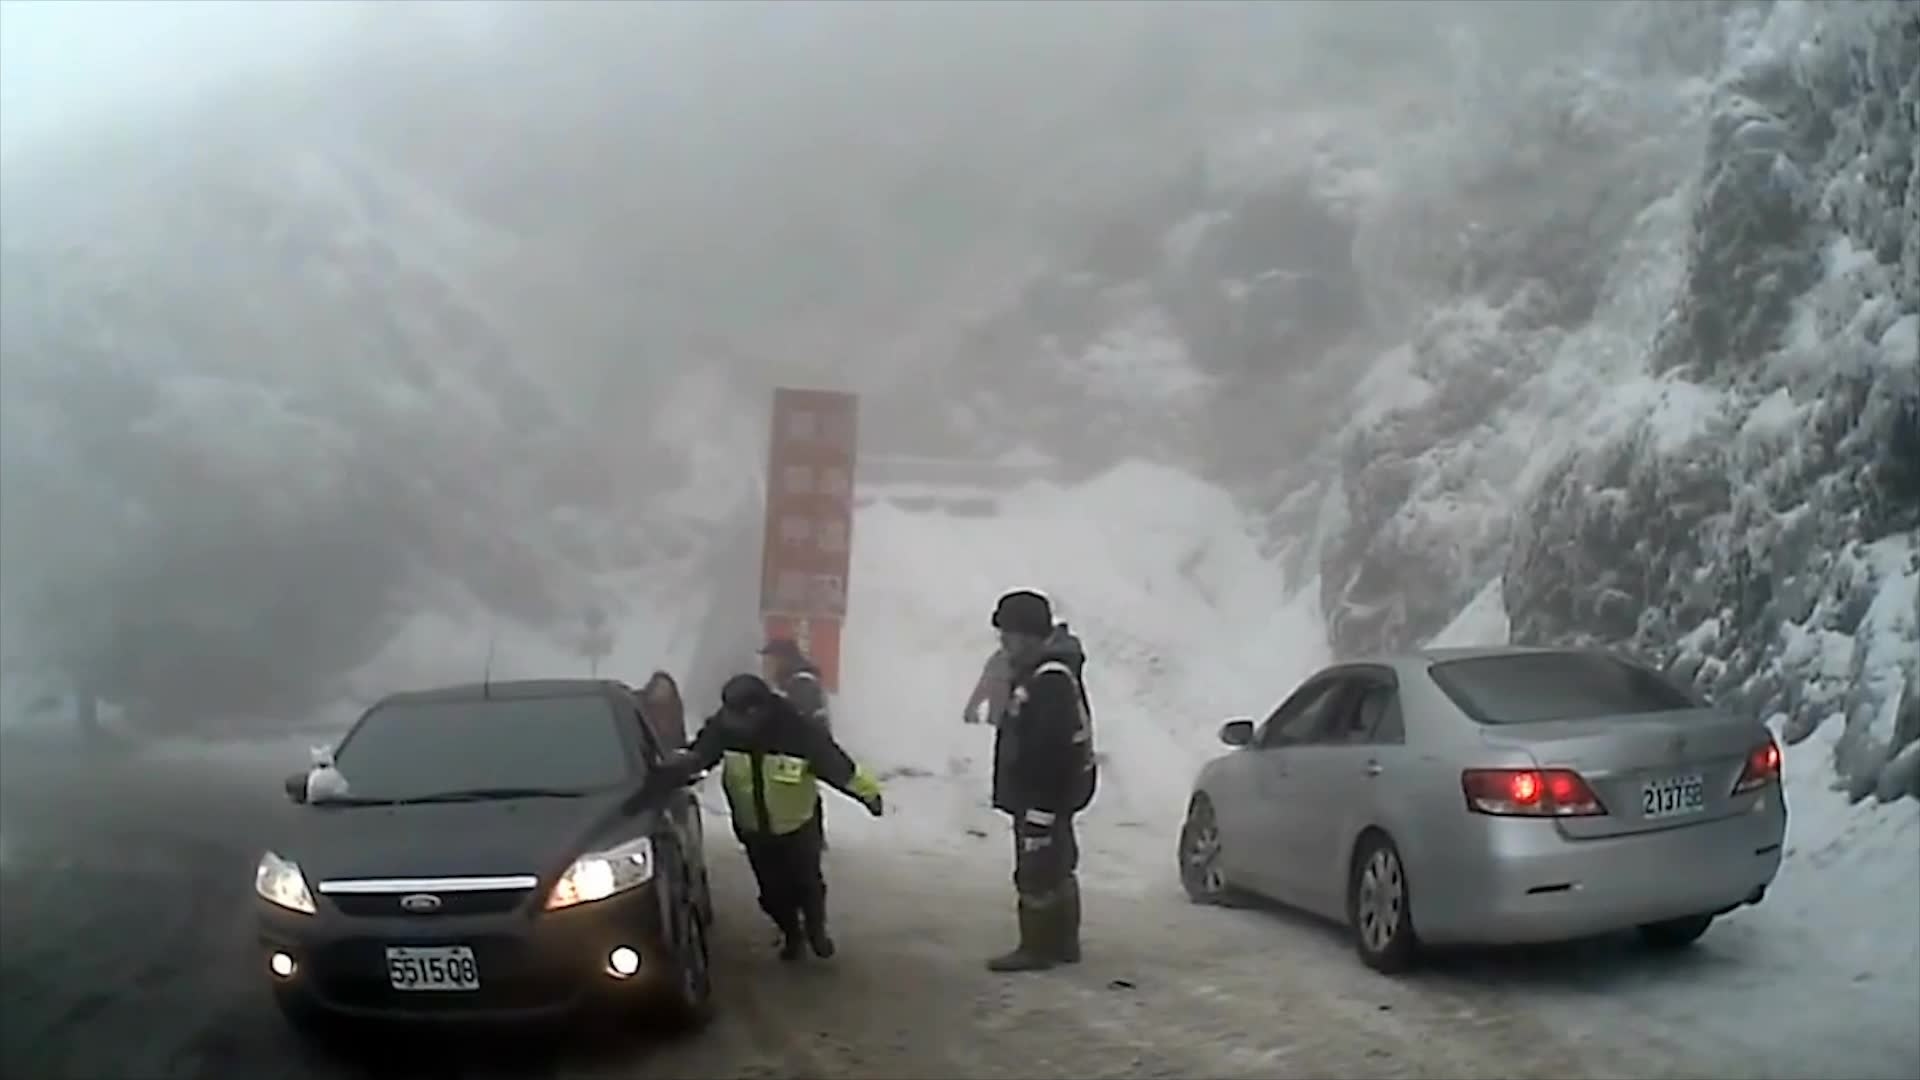pedestrian: (683, 674, 894, 978), (968, 590, 1096, 975), (756, 631, 831, 863), (966, 616, 1054, 802)
vehicle: (1175, 644, 1786, 972), (249, 677, 715, 1035)
